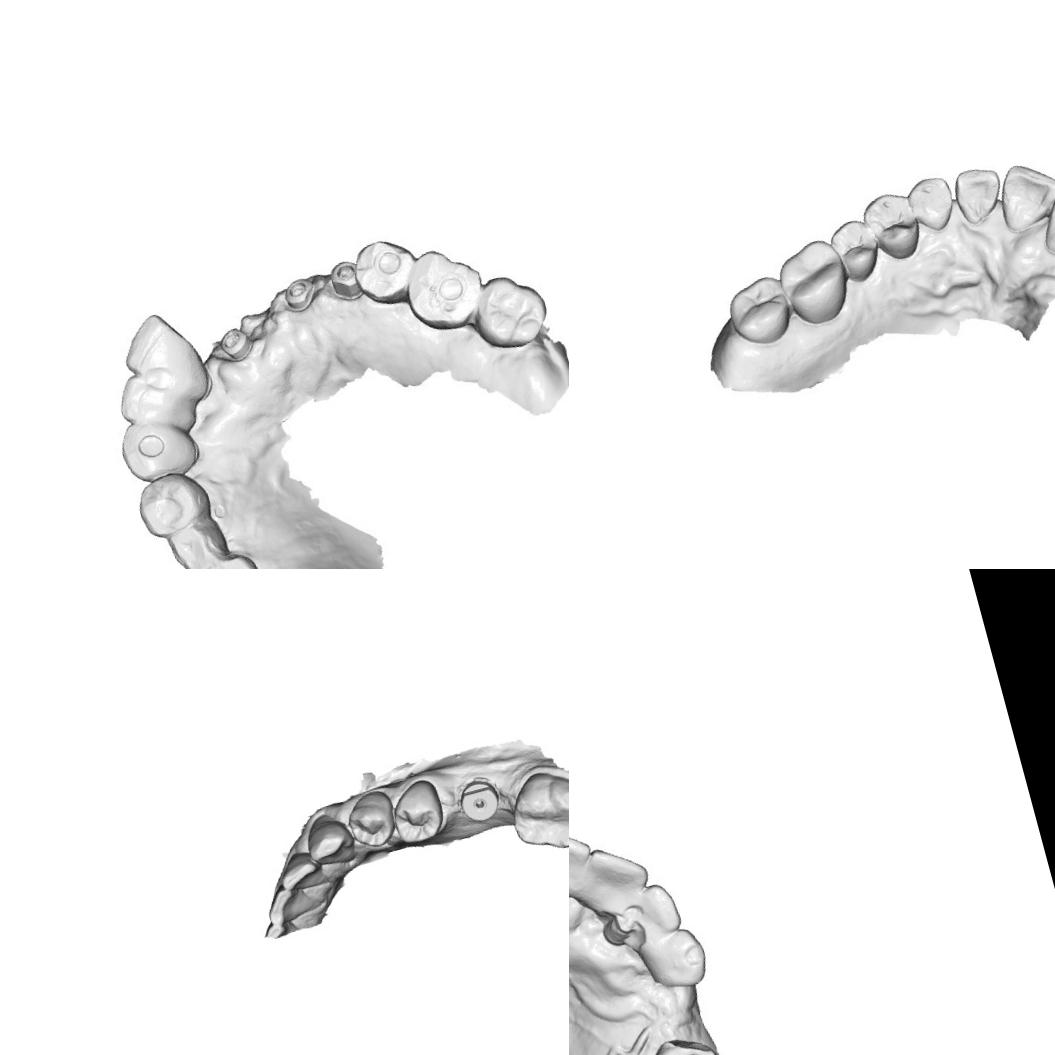canine: (118, 414, 202, 487), (634, 925, 708, 996), (900, 164, 960, 238), (298, 808, 358, 870)
implant: (214, 321, 268, 376), (454, 774, 504, 826), (322, 252, 363, 302), (280, 276, 313, 314)
incisor: (122, 306, 212, 414), (114, 366, 196, 442), (573, 844, 646, 916), (946, 158, 1010, 232), (994, 154, 1055, 229), (260, 878, 327, 930), (624, 882, 681, 938), (569, 818, 600, 906), (274, 846, 326, 894), (1032, 181, 1055, 256)
molar: (770, 238, 858, 332), (400, 247, 488, 334), (500, 760, 569, 859), (472, 271, 550, 348), (723, 274, 799, 350), (645, 1025, 727, 1055), (187, 553, 264, 569)
premolar: (346, 228, 426, 312), (133, 464, 216, 542), (384, 774, 449, 846), (341, 786, 402, 853), (863, 190, 922, 258), (160, 514, 232, 569), (828, 216, 886, 284)
